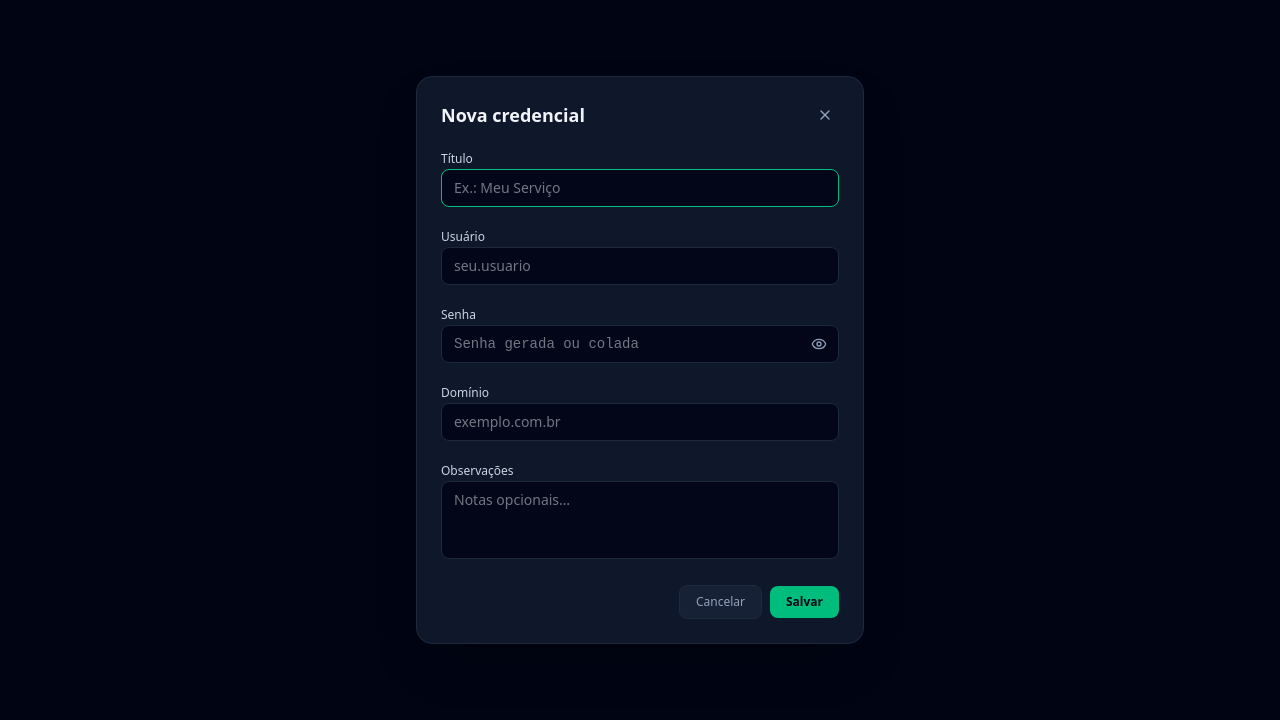
Test case: EntryModal: criação › mostra o erro do cofre quando o save falha
The image size is (1280, 720).
Type "Banco" into the field labelled "Título" at [640, 188], box top-left (441, 169), bottom-right (839, 207)
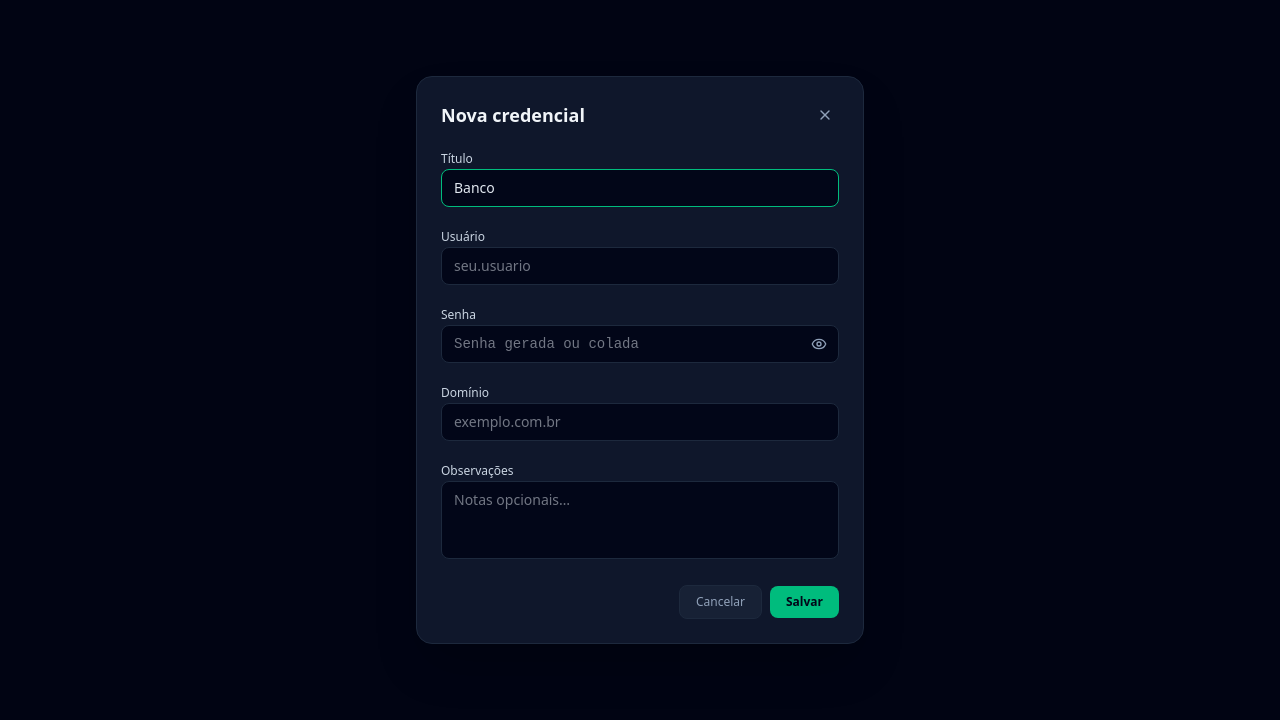
Click the button "Salvar" at [804, 602], box top-left (770, 586), bottom-right (839, 618)
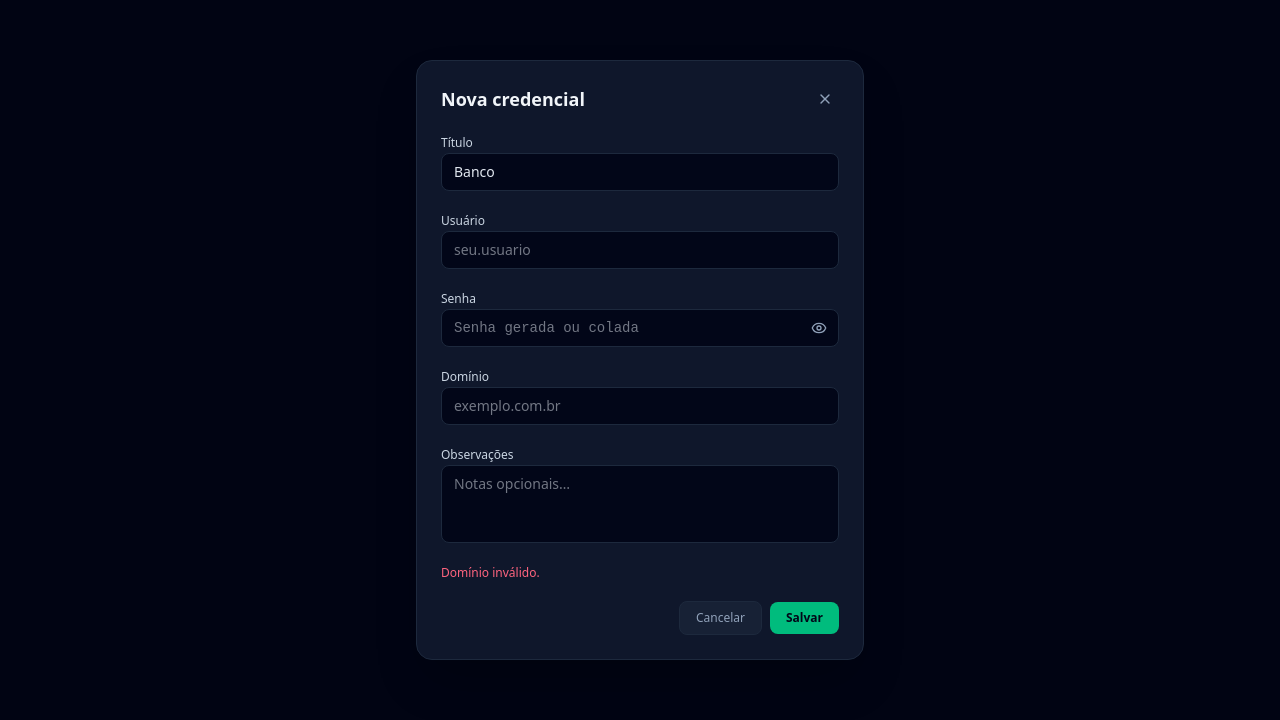
Check: the text "Domínio inválido." is shown, box top-left (441, 564), bottom-right (540, 581)
